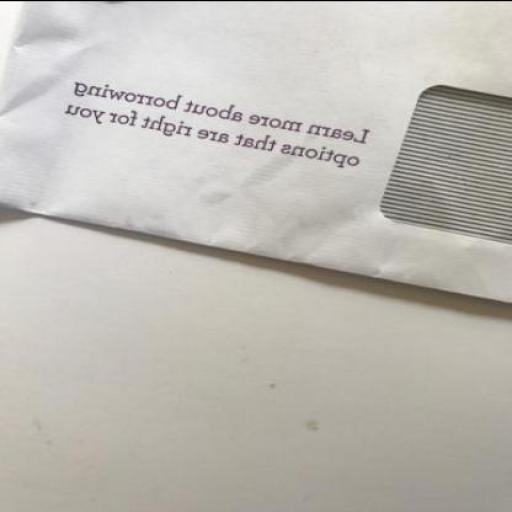paper: (0, 1, 511, 301)
